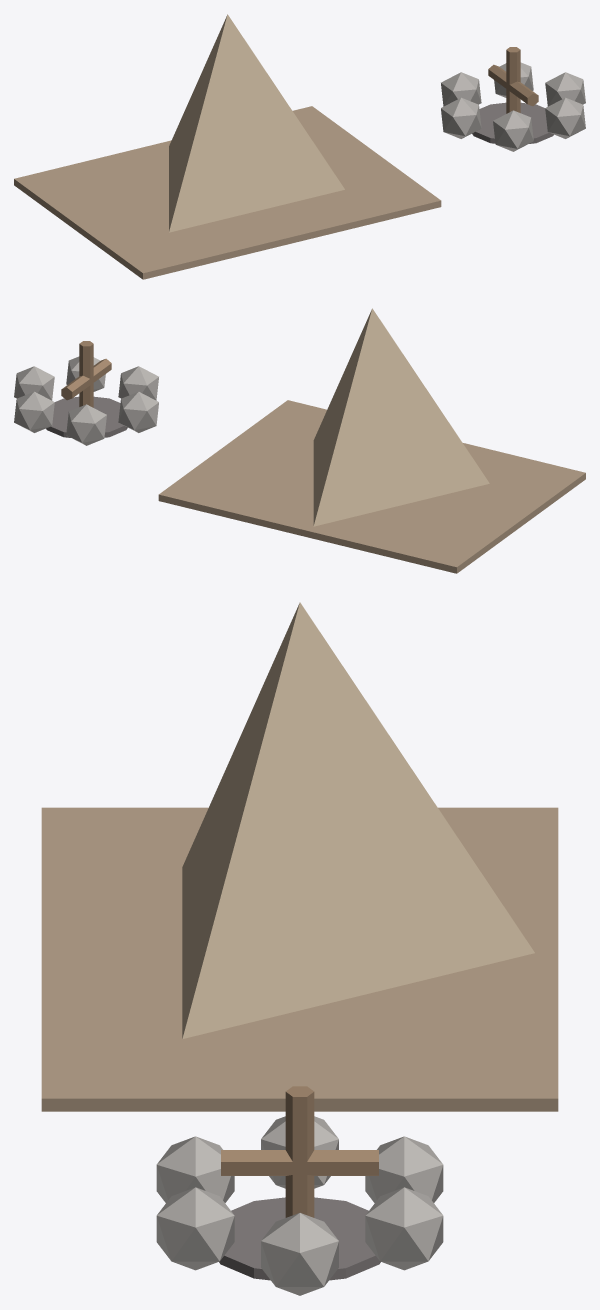
Rendered from 27-Islas-Ubicaciones_campamento_abandonado.glb.
3 views of the same model, one above another, from view 1: azimuth 30°, elevation 25°; view 2: azimuth 150°, elevation 25°; view 3: azimuth 270°, elevation 25° (orthographic). The views are drawn at different scales.
Visible parts, largest first — view 1: SM_Campamento_M_Campamento_Tela_Osc, SM_Campamento_M_Campamento_Tela, SM_Campamento_M_Campamento_Piedra, SM_Campamento_M_Campamento_Madera, SM_Campamento_M_Campamento_Ceniza; view 2: SM_Campamento_M_Campamento_Tela_Osc, SM_Campamento_M_Campamento_Tela, SM_Campamento_M_Campamento_Piedra, SM_Campamento_M_Campamento_Madera, SM_Campamento_M_Campamento_Ceniza; view 3: SM_Campamento_M_Campamento_Tela_Osc, SM_Campamento_M_Campamento_Tela, SM_Campamento_M_Campamento_Piedra, SM_Campamento_M_Campamento_Madera, SM_Campamento_M_Campamento_Ceniza.
Part boxes in pixels (x1=…): SM_Campamento_M_Campamento_Tela_Osc: x1=14, y1=106, x2=441, y2=279; SM_Campamento_M_Campamento_Tela: x1=169, y1=14, x2=344, y2=232; SM_Campamento_M_Campamento_Piedra: x1=441, y1=62, x2=585, y2=151; SM_Campamento_M_Campamento_Madera: x1=488, y1=47, x2=538, y2=113; SM_Campamento_M_Campamento_Ceniza: x1=472, y1=102, x2=553, y2=143; SM_Campamento_M_Campamento_Tela_Osc: x1=158, y1=400, x2=585, y2=573; SM_Campamento_M_Campamento_Tela: x1=313, y1=308, x2=489, y2=526; SM_Campamento_M_Campamento_Piedra: x1=14, y1=356, x2=158, y2=445; SM_Campamento_M_Campamento_Madera: x1=61, y1=341, x2=111, y2=407; SM_Campamento_M_Campamento_Ceniza: x1=46, y1=396, x2=127, y2=437; SM_Campamento_M_Campamento_Tela_Osc: x1=41, y1=807, x2=558, y2=1111; SM_Campamento_M_Campamento_Tela: x1=182, y1=602, x2=534, y2=1038; SM_Campamento_M_Campamento_Piedra: x1=156, y1=1116, x2=443, y2=1295; SM_Campamento_M_Campamento_Madera: x1=221, y1=1086, x2=378, y2=1217; SM_Campamento_M_Campamento_Ceniza: x1=219, y1=1197, x2=380, y2=1280.
Bounding box in the file's own units: 4.06 × 1.4 × 1.8.
